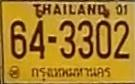0: (95, 20, 112, 59)
2: (114, 19, 129, 59)
3: (59, 20, 76, 58), (78, 20, 93, 59)
4: (29, 19, 45, 59)
6: (10, 20, 27, 58)
BKK: (29, 63, 117, 81)
